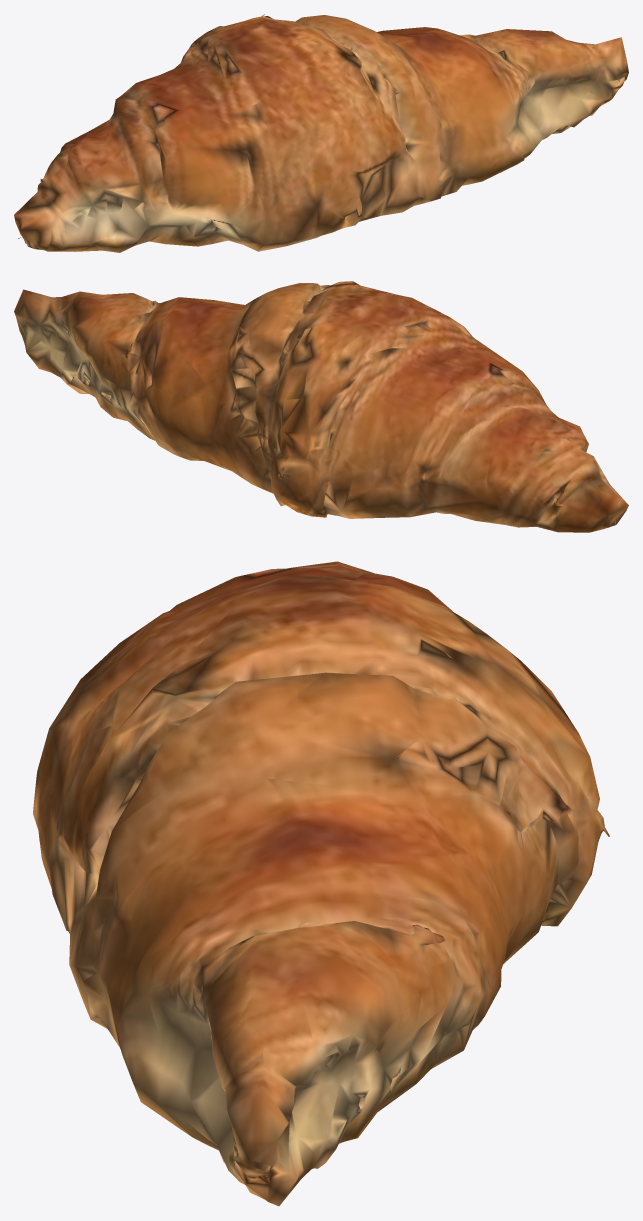
The model's file is grocery_bakery_croissant_a01.glb.
The picture shows the model from 3 angles, top to bottom: view 1: azimuth 30°, elevation 25°; view 2: azimuth 150°, elevation 25°; view 3: azimuth 270°, elevation 25°; orthographic projection. The views are drawn at different scales.
Parts seen in each view (by area): view 1: sm_grocery_bakery_croissant_a01_01; view 2: sm_grocery_bakery_croissant_a01_01; view 3: sm_grocery_bakery_croissant_a01_01.
Boxes of the visible parts, x1=… form: sm_grocery_bakery_croissant_a01_01: x1=14, y1=14, x2=628, y2=252; sm_grocery_bakery_croissant_a01_01: x1=14, y1=281, x2=628, y2=532; sm_grocery_bakery_croissant_a01_01: x1=33, y1=561, x2=609, y2=1206.
Size of the model in its own units: 0.1593 by 0.0423 by 0.0668.
1 material, 1 textured.
